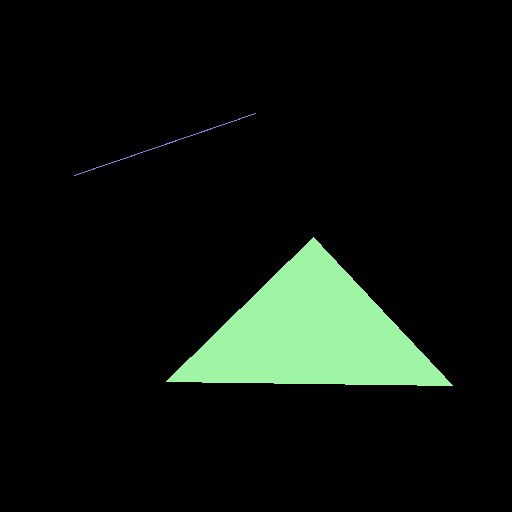triangle: (166, 237, 452, 385)
